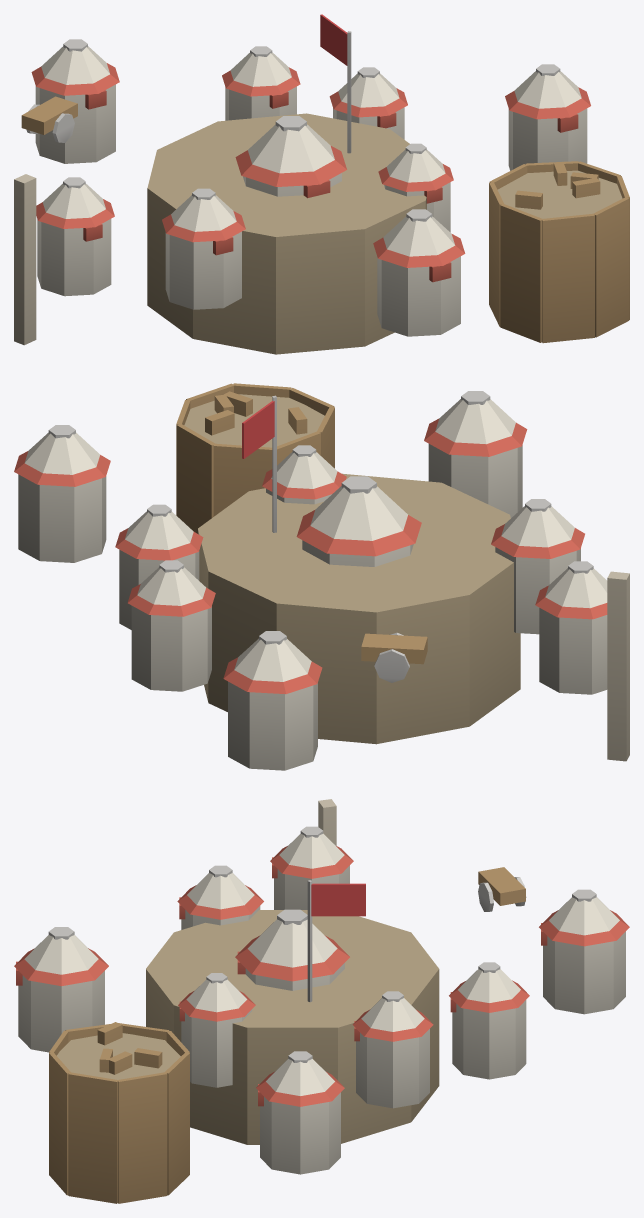
Rendered from village_steppe_a.glb.
3 renders of one model, top to bottom at view 1: azimuth 30°, elevation 25°; view 2: azimuth 150°, elevation 25°; view 3: azimuth 270°, elevation 25°, orthographic. The views are drawn at different scales.
Visible parts, largest first — view 1: village_steppe_a; view 2: village_steppe_a; view 3: village_steppe_a.
Part boxes in pixels (x1=…): village_steppe_a: x1=14, y1=14, x2=629, y2=354; village_steppe_a: x1=14, y1=383, x2=629, y2=770; village_steppe_a: x1=14, y1=799, x2=629, y2=1203.
Size of the model in its own units: 1.84 by 0.75 by 1.76.
